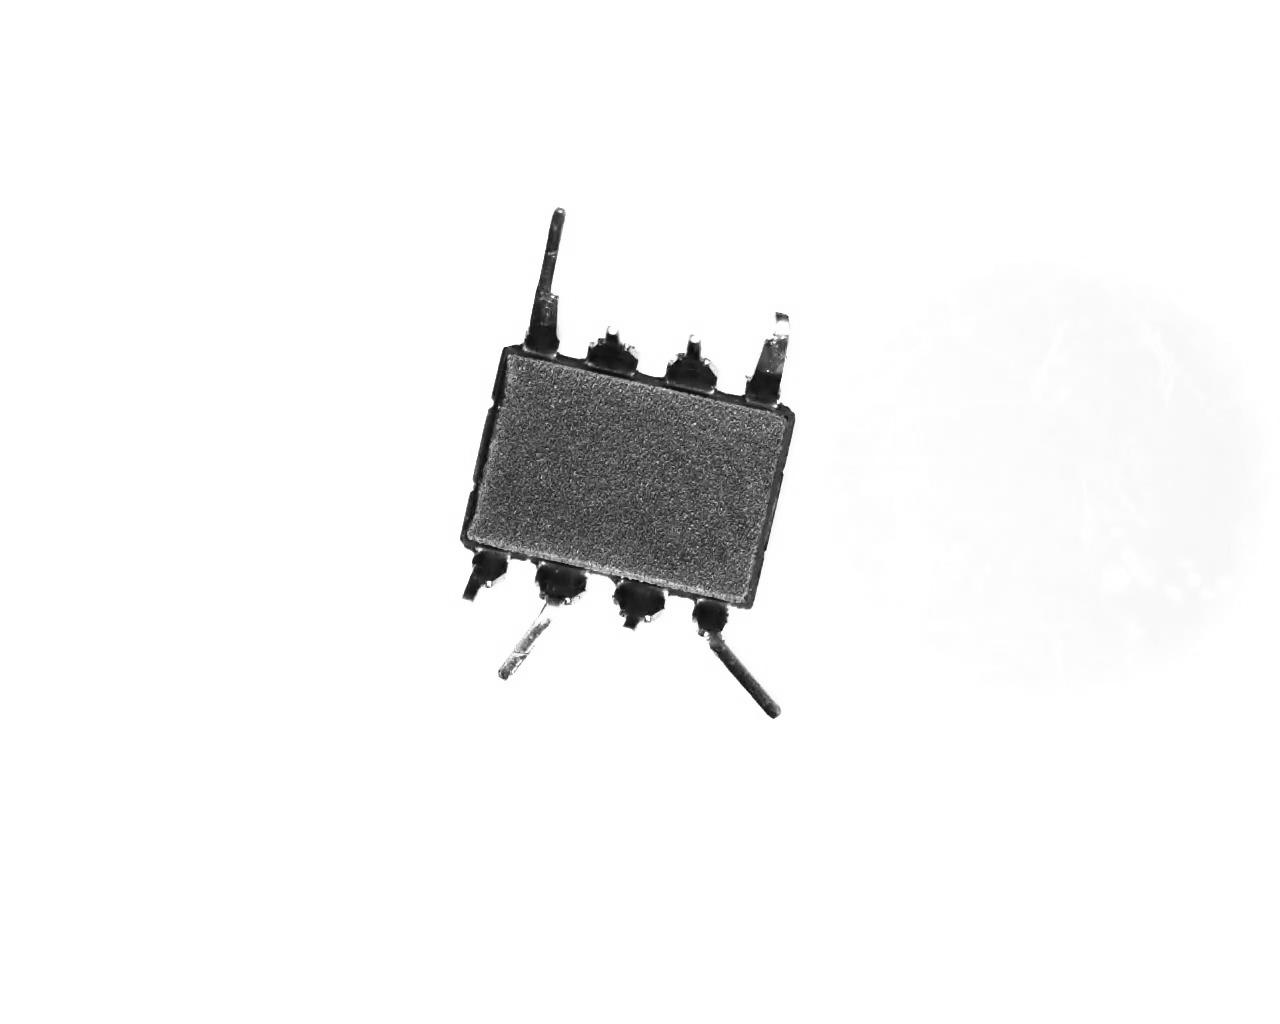Leg: (497, 552, 589, 699), (686, 597, 786, 721), (520, 200, 572, 366), (742, 284, 789, 420)
brokenLeg: (656, 326, 723, 405), (603, 572, 672, 646), (455, 537, 517, 608), (579, 320, 642, 381)
